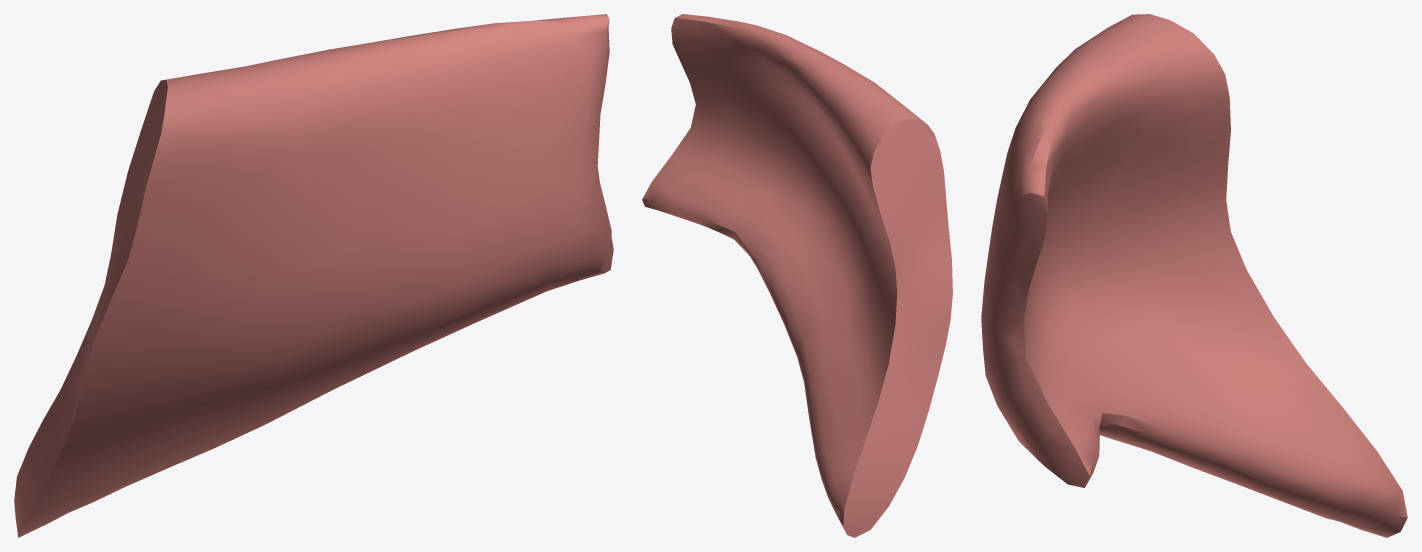
Rendered from fma298623_mm1770m.glb.
3 views of the same model, side by side, from view 1: azimuth 30°, elevation 25°; view 2: azimuth 150°, elevation 25°; view 3: azimuth 270°, elevation 25° (orthographic). The views are drawn at different scales.
Visible parts, largest first — view 1: FMA298623_MM1770M; view 2: FMA298623_MM1770M; view 3: FMA298623_MM1770M.
Part boxes in pixels (x1,y1,x2,y2): FMA298623_MM1770M: [14, 14, 613, 537]; FMA298623_MM1770M: [642, 14, 952, 537]; FMA298623_MM1770M: [981, 14, 1407, 537].
Bounding box in the file's own units: 0.0295 × 0.0319 × 0.0214.
